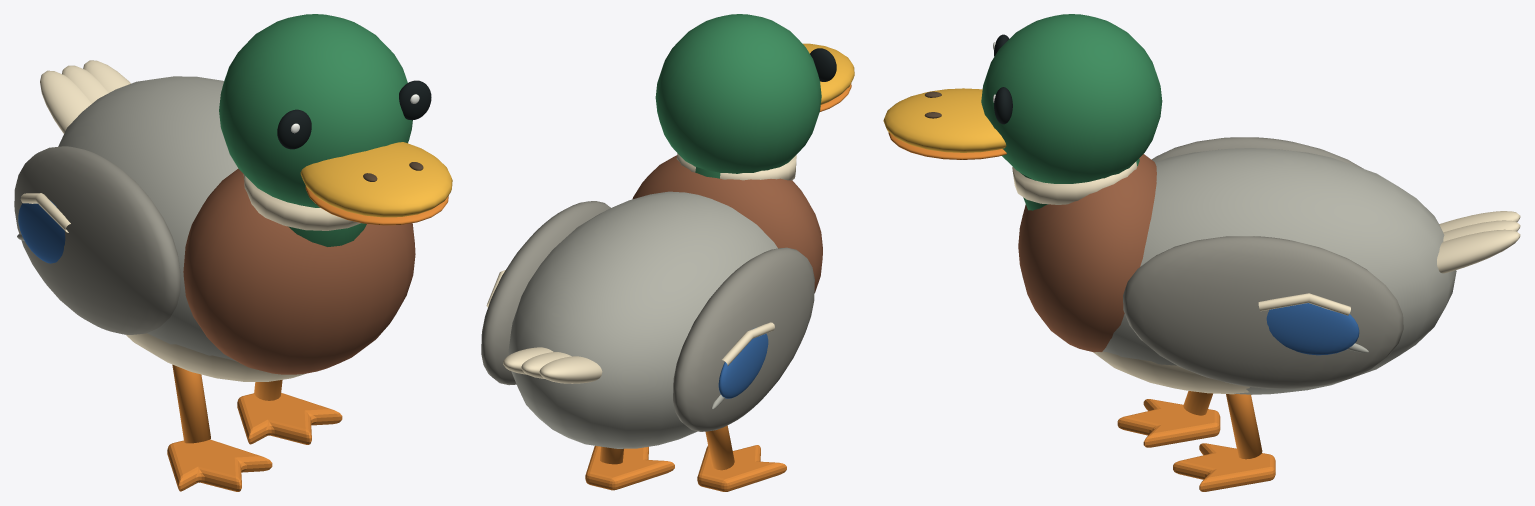
The model's file is eend_lopend.glb.
The picture shows the model from 3 angles, left to right: view 1: azimuth 30°, elevation 25°; view 2: azimuth 150°, elevation 25°; view 3: azimuth 270°, elevation 25°; orthographic projection. The views are drawn at different scales.
Parts seen in each view (by area): view 1: Duck_brown_chest, Duck_round_head, Duck_folded_wing, Duck_body, Duck_flat_bill, Duck_webbed_foot, Duck_webbed_foot.001, Duck_cream_belly, Duck_white_neck_ring, Duck_leg, Duck_blue_wing_panel, Duck_tail_feather (+8 smaller); view 2: Duck_body, Duck_round_head, Duck_folded_wing, Duck_brown_chest, Duck_folded_wing.001, Duck_webbed_foot.001, Duck_webbed_foot, Duck_blue_wing_panel, Duck_tail_feather, Duck_flat_bill, Duck_leg, Duck_white_neck_ring (+4 smaller); view 3: Duck_body, Duck_folded_wing.001, Duck_round_head, Duck_brown_chest, Duck_flat_bill, Duck_blue_wing_panel.001, Duck_webbed_foot, Duck_webbed_foot.001, Duck_cream_belly, Duck_tail_feather.002, Duck_white_neck_ring, Duck_folded_wing (+5 smaller).
Boxes of the visible parts, box(x1,y1,x2,y2) form: Duck_brown_chest: box(183, 168, 415, 374); Duck_round_head: box(219, 14, 412, 206); Duck_folded_wing: box(14, 146, 180, 334); Duck_body: box(58, 76, 238, 361); Duck_flat_bill: box(300, 142, 452, 217); Duck_webbed_foot: box(167, 439, 272, 491); Duck_webbed_foot.001: box(237, 393, 342, 444); Duck_cream_belly: box(126, 333, 305, 381); Duck_white_neck_ring: box(243, 174, 361, 230); Duck_leg: box(172, 364, 210, 443); Duck_blue_wing_panel: box(18, 200, 65, 263); Duck_tail_feather: box(40, 70, 91, 133); Duck_body: box(508, 191, 777, 448); Duck_round_head: box(655, 14, 821, 173); Duck_folded_wing: box(673, 247, 814, 431); Duck_brown_chest: box(632, 155, 822, 292); Duck_folded_wing.001: box(481, 201, 610, 385); Duck_webbed_foot.001: box(585, 446, 674, 490); Duck_webbed_foot: box(697, 445, 786, 491); Duck_blue_wing_panel: box(718, 328, 768, 398); Duck_tail_feather: box(539, 356, 602, 383); Duck_flat_bill: box(803, 43, 854, 104); Duck_leg: box(705, 425, 734, 470); Duck_white_neck_ring: box(676, 153, 796, 180); Duck_body: box(1103, 148, 1456, 394); Duck_folded_wing.001: box(1123, 236, 1403, 388); Duck_round_head: box(981, 14, 1162, 183); Duck_brown_chest: box(1018, 154, 1156, 352); Duck_flat_bill: box(883, 88, 1006, 152); Duck_blue_wing_panel.001: box(1266, 303, 1359, 355); Duck_webbed_foot: box(1117, 399, 1220, 447); Duck_webbed_foot.001: box(1173, 443, 1275, 491); Duck_cream_belly: box(1093, 351, 1249, 394); Duck_tail_feather.002: box(1437, 229, 1520, 273); Duck_white_neck_ring: box(1012, 161, 1137, 204); Duck_folded_wing: box(1151, 137, 1363, 168).
Bounding box in the file's own units: 0.504 × 0.771 × 1.03.
